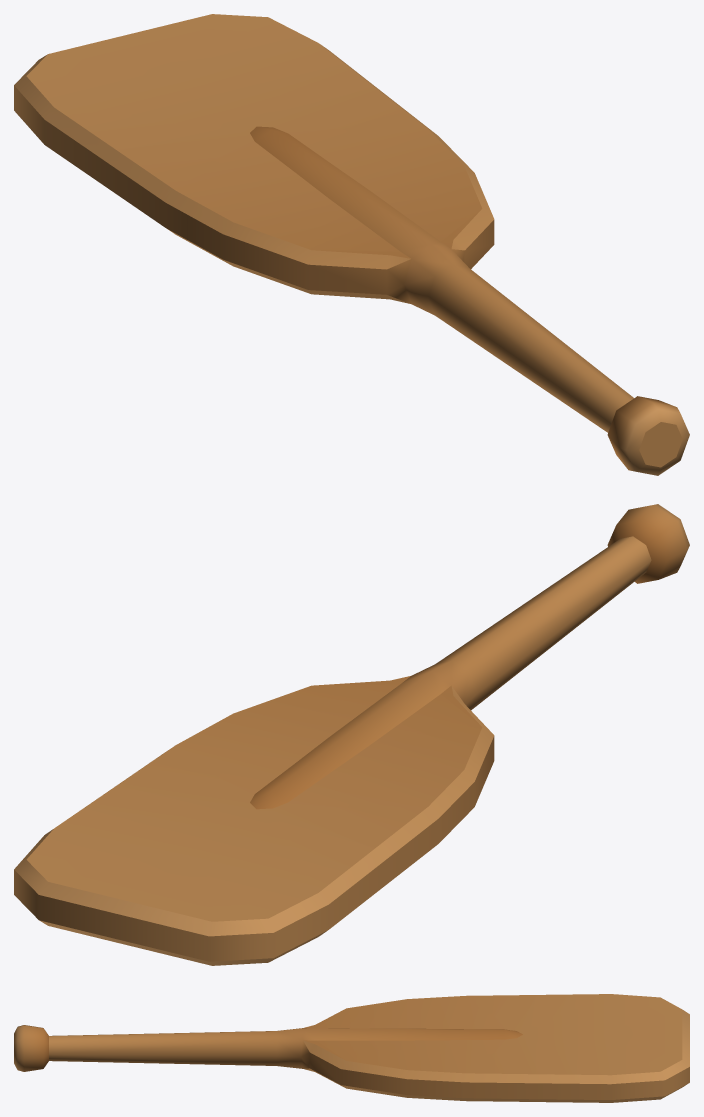
Rendered from Melee_Oar.fbx.
The picture shows the model from 3 angles, top to bottom: view 1: azimuth 30°, elevation 25°; view 2: azimuth 150°, elevation 25°; view 3: azimuth 270°, elevation 25°; orthographic projection. The views are drawn at different scales.
Parts seen in each view (by area): view 1: Melee_Oar; view 2: Melee_Oar; view 3: Melee_Oar.
Boxes of the visible parts, x1,y1,x2,y2 form: Melee_Oar: (14, 14, 689, 475); Melee_Oar: (14, 504, 689, 965); Melee_Oar: (14, 994, 689, 1102).
Size of the model in its own units: 0.4138 by 0.1004 by 1.35.
